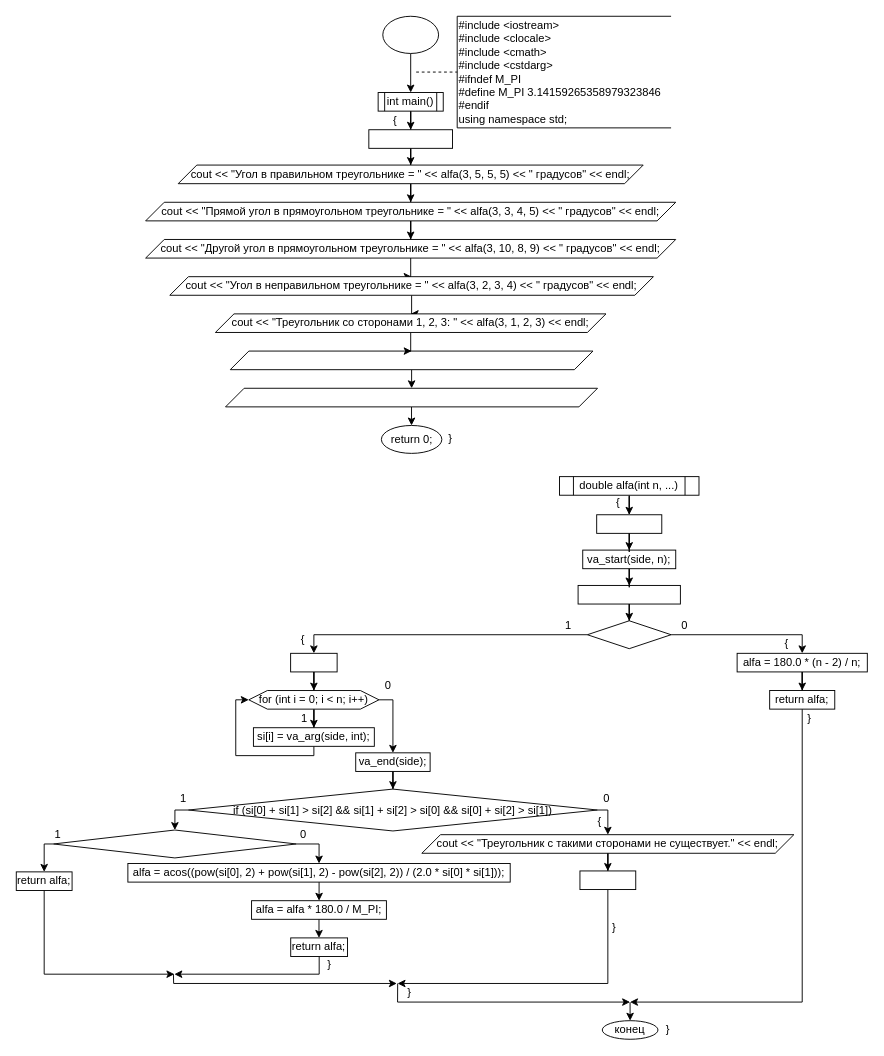
This 884x1056 diagram has some shape labels left out. The shapes that lost their labels are listed below. From the top down, each one's box as (x1, y1, x2, y2) in pixels, then its label:
(382, 15, 439, 53): Начало
(368, 129, 453, 148): setlocale(0, "");
(229, 350, 593, 370): cout << "Угол в 9-угольнике = " << alfa(9) << " градусов" << endl;
(225, 387, 598, 407): cout << "Угол в 11-угольнике = " << alfa(11) << " градусов" << endl;
(596, 514, 662, 533): va_list side;
(577, 585, 680, 604): double alfa = 60.0;
(586, 620, 671, 649): if (n == 3)
(290, 652, 337, 672): int si[3];
(53, 829, 296, 858): if (si[0] == si[1] && si[1] == si[2])
(579, 870, 636, 890): return -1;
